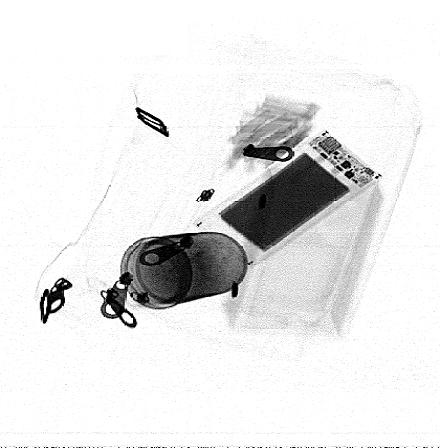Powerbank: (192, 127, 386, 269)
